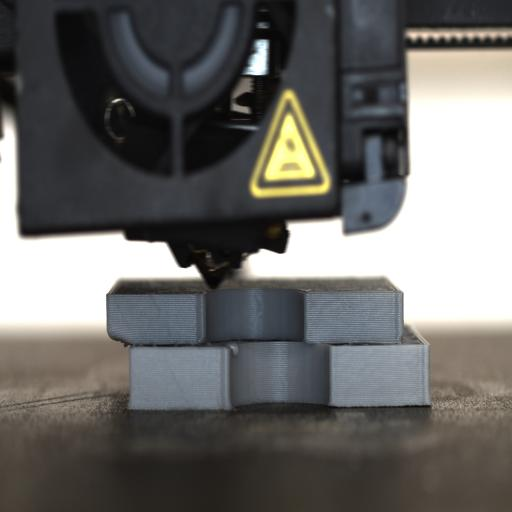layer_shift: (107, 332, 432, 356)
